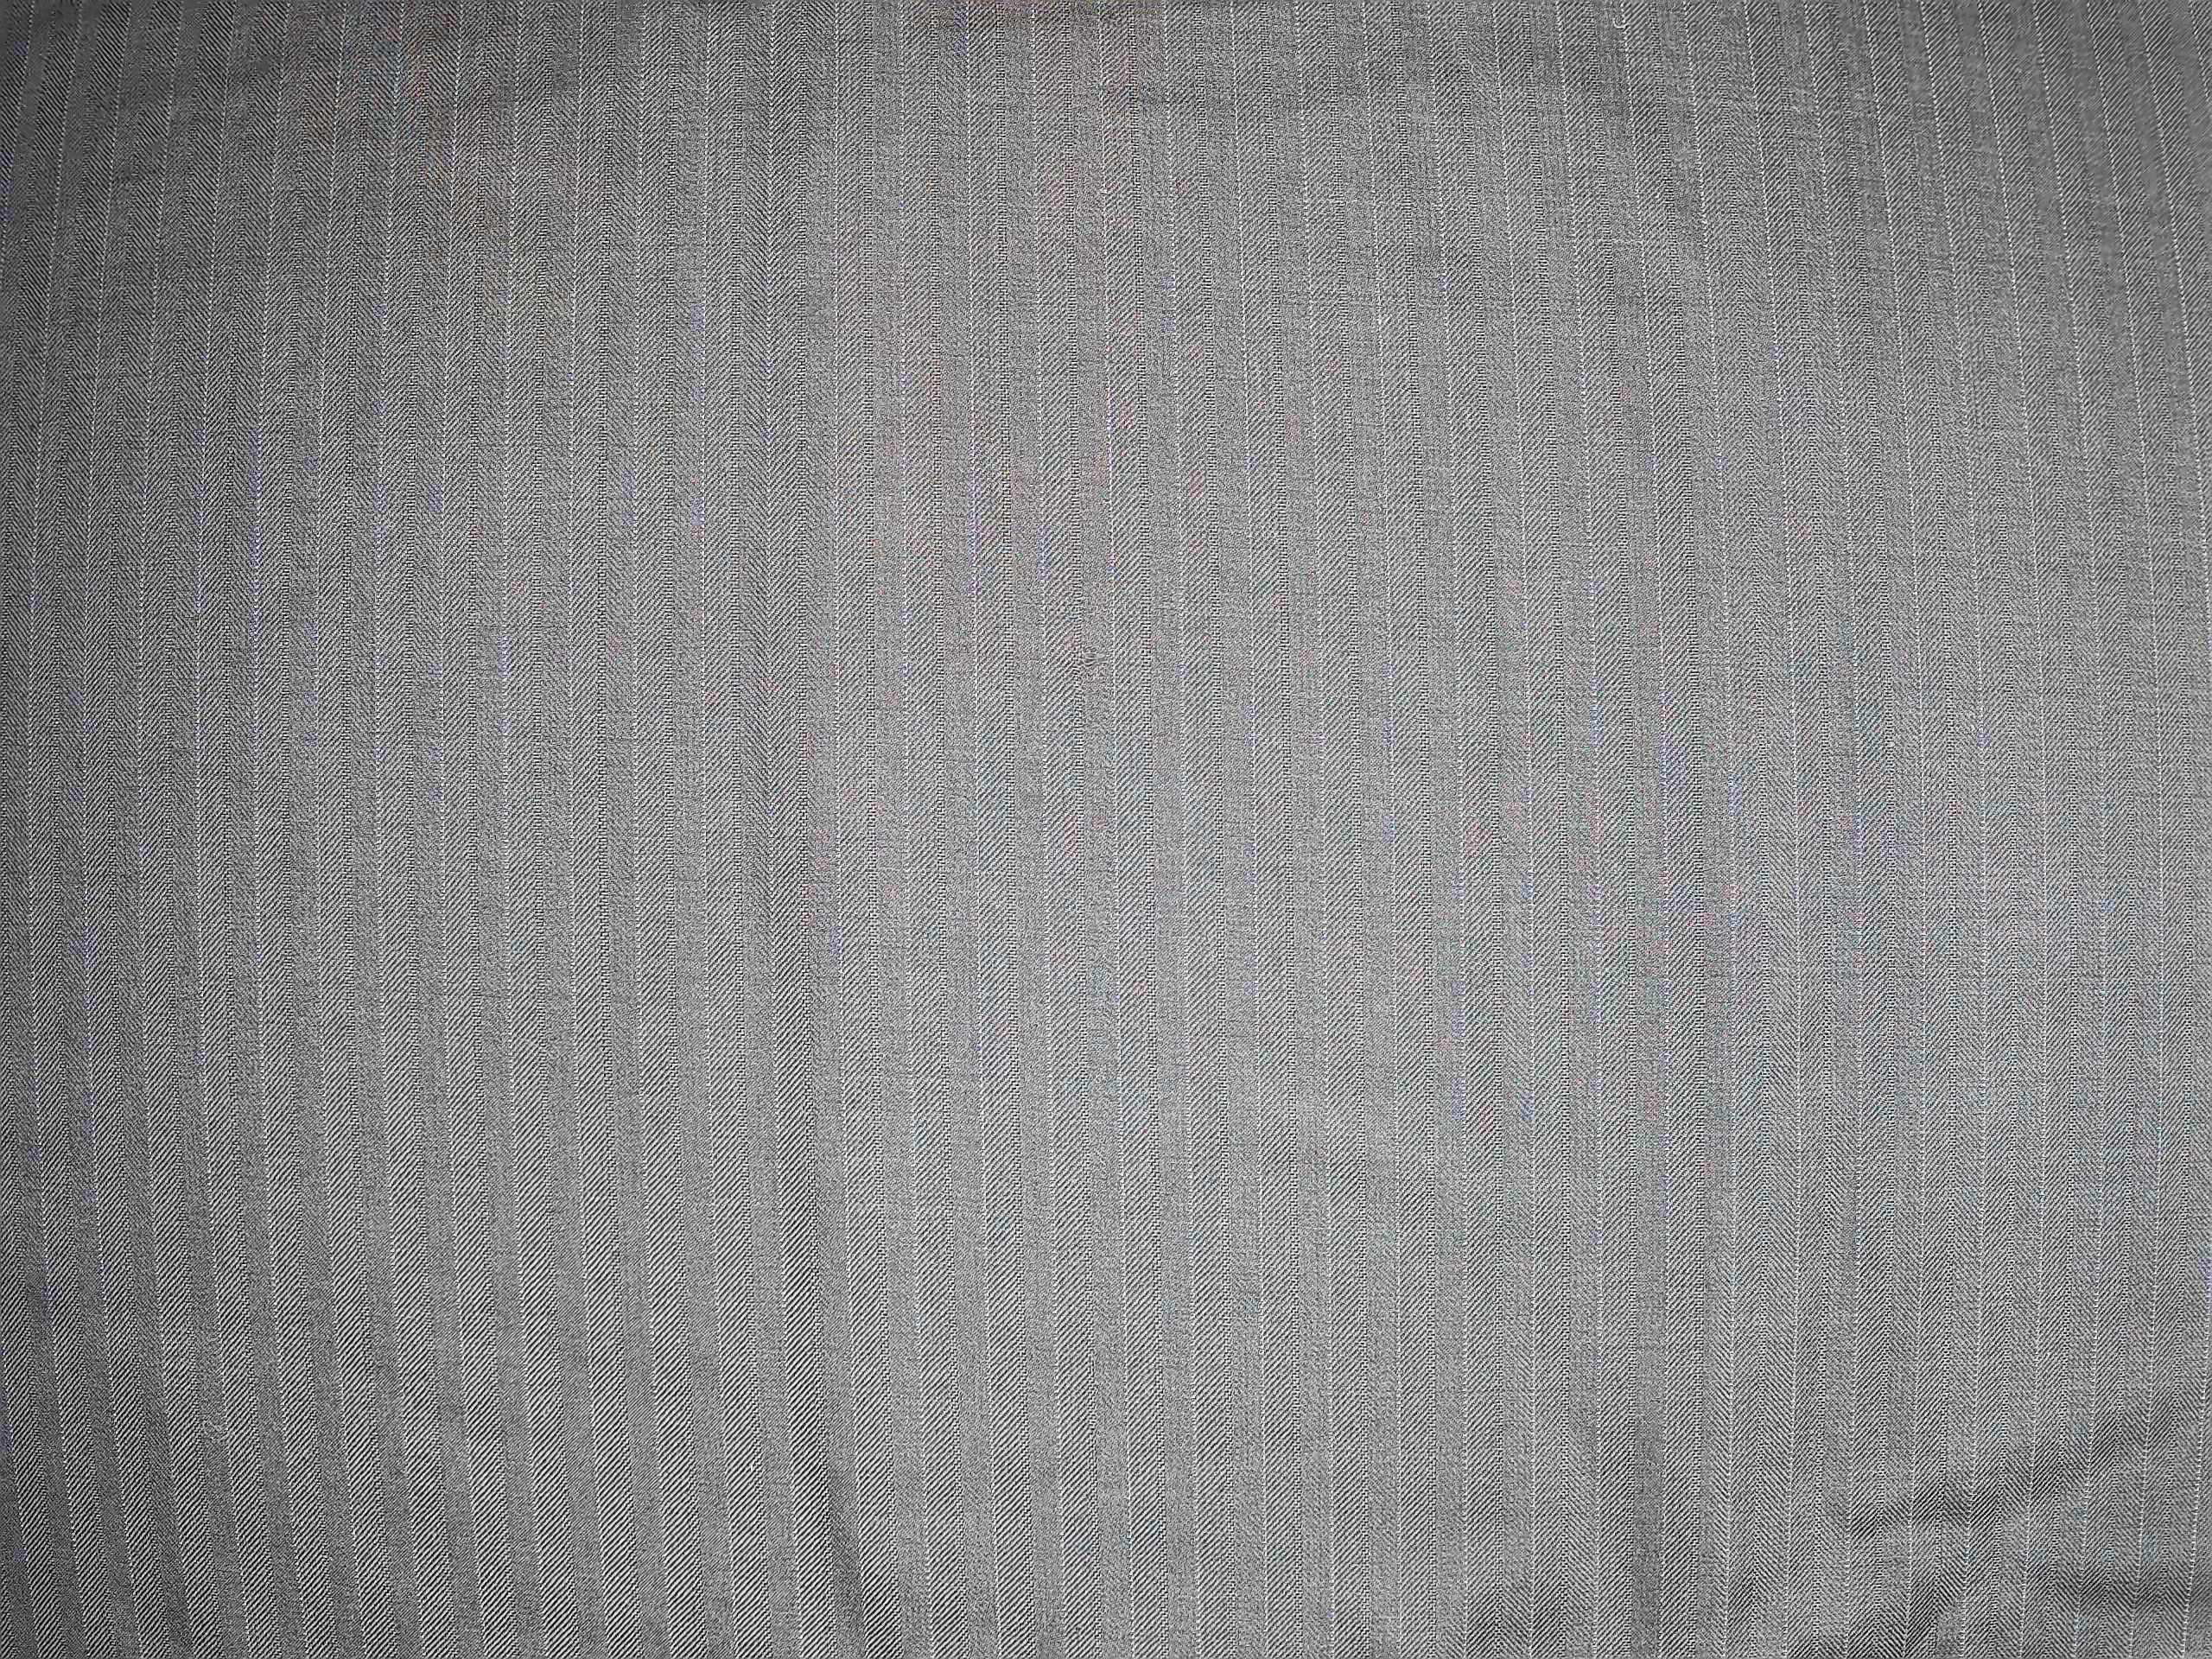puncture-hole: (1064, 636, 1122, 695)
